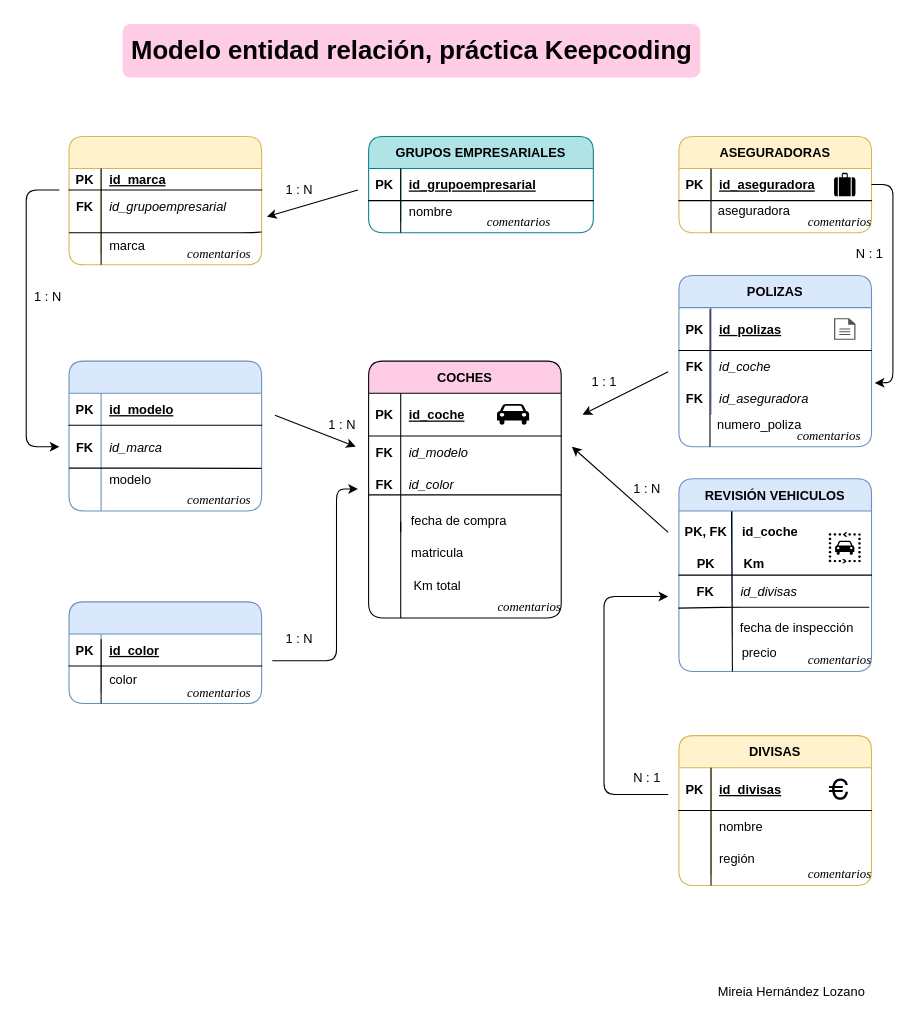
The diagram is 920 pixels wide and 1022 high, and some of its shapes have lost their labels. The shapes that lost their labels are listed below. From the top down, each one's box as (x1, y1, x2, y2) in pixels, then its label:
(68, 135, 262, 265): MARCAS DE COCHE
(68, 360, 262, 511): MODELOS DE COCHE
(68, 601, 262, 704): COLORES
